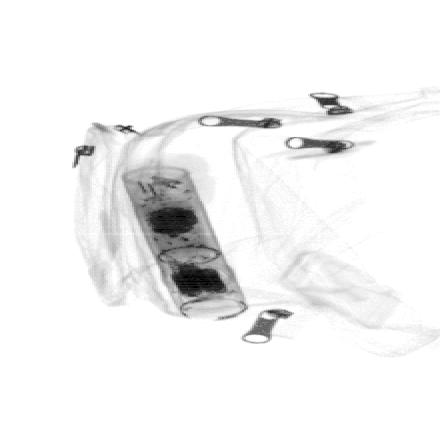Baton: (119, 163, 252, 324)
